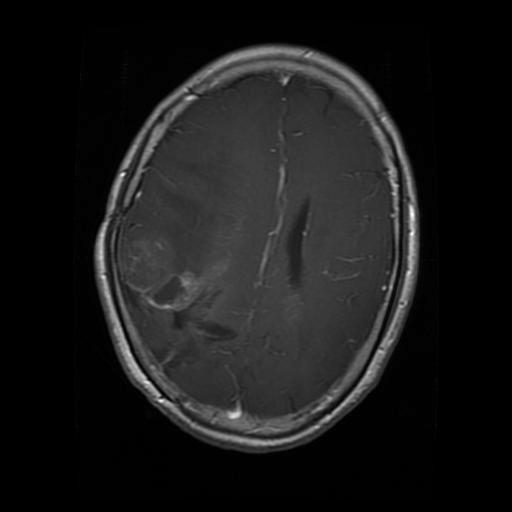Tumour-Glioma: (118, 203, 193, 318)
